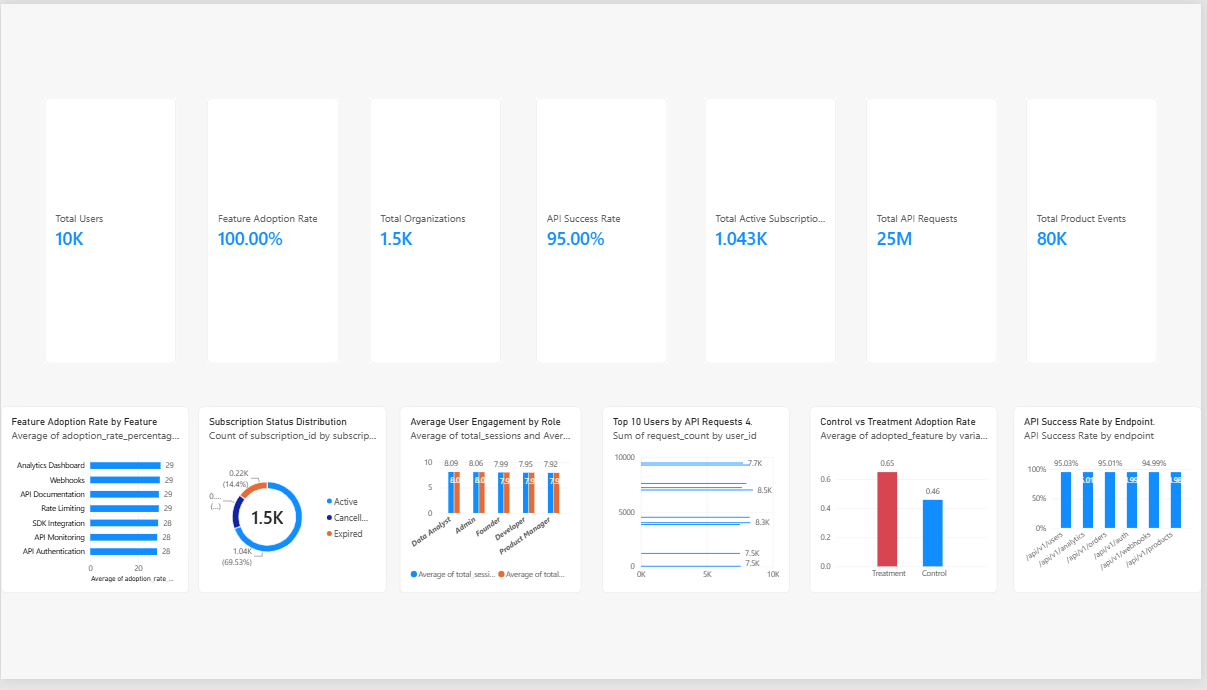

The dashboard page shown, as its layout file describes it:
{"tool":"powerbi","page":{"name":"Executive Overview","canvas":[1920,1080],"ordinal":0},"visuals":[{"type":"cardVisual","fields":{"Data":["Measures_1.Total Users"]},"box":[70.2,149.5,210.7,425.1],"z":0},{"type":"cardVisual","fields":{"Data":["Measures_1.Total Organizations"]},"box":[590.8,149.5,210,425.1],"z":1000},{"type":"cardVisual","fields":{"Data":["Measures_1.Feature Adoption Rate"]},"box":[329.6,149.5,210,425.1],"z":2000},{"type":"cardVisual","fields":{"Data":["Measures_1.Total Product Events"]},"box":[1639,149.5,210,425.1],"z":3000},{"type":"cardVisual","fields":{"Data":["Measures_1.Total API Requests"]},"box":[1383.3,149.5,210,425.1],"z":4000},{"type":"cardVisual","fields":{"Data":["Measures_1.Total Active Subscriptions"]},"box":[1125.7,149.5,210,425.1],"z":5000},{"type":"clusteredBarChart","title":"Feature Adoption Rate by Feature","fields":{"Category":["feature_adoption.feature_name"],"Y":["Avg(feature_adoption.adoption_rate_percentage)"]},"box":[0,643,300.5,298.5],"z":6000},{"type":"donutChart","title":"Subscription Status Distribution","fields":{"Category":["subscriptions.subscription_status"],"Y":["Count(subscriptions.subscription_id)"]},"box":[315.2,643,300.5,298.5],"z":7000},{"type":"clusteredColumnChart","title":"Average User Engagement by Role","fields":{"Category":["users.user_role"],"Y":["Avg(user_engagement.total_sessions)","Avg(user_engagement.total_events)"]},"box":[637.6,643,290.1,298.5],"z":8000},{"type":"clusteredBarChart","title":"Top 10 Users by API Requests 4.","fields":{"Category":["api_usage.user_id"],"Y":["Sum(api_usage.request_count)"]},"box":[961.8,643,300,298.5],"z":9000},{"type":"clusteredColumnChart","title":"Control vs Treatment Adoption Rate","fields":{"Category":["experiment_assignments.variant"],"Y":["Avg(experiment_outcomes.adopted_feature)"]},"box":[1293.2,643,300,298],"z":10000},{"type":"cardVisual","fields":{"Data":["Measures_1.API Success Rate"]},"box":[855.5,149.5,210,425.1],"z":11000},{"type":"clusteredColumnChart","title":"API Success Rate by Endpoint.","fields":{"Category":["api_usage.endpoint"],"Y":["Measures_1.API Success Rate"]},"box":[1619.2,643,300.5,298.5],"z":12000}]}

Visuals, with their boxes in screenshot pixels (x1, y1, x2, y2), scaled from the page's 1920x1080 canvas onto the 1207x690 screenshot:
cardVisual - Measures_1.Total Users: x1=44, y1=96, x2=177, y2=367
cardVisual - Measures_1.Total Organizations: x1=371, y1=96, x2=503, y2=367
cardVisual - Measures_1.Feature Adoption Rate: x1=207, y1=96, x2=339, y2=367
cardVisual - Measures_1.Total Product Events: x1=1030, y1=96, x2=1162, y2=367
cardVisual - Measures_1.Total API Requests: x1=870, y1=96, x2=1002, y2=367
cardVisual - Measures_1.Total Active Subscriptions: x1=708, y1=96, x2=840, y2=367
"Feature Adoption Rate by Feature" clusteredBarChart: x1=0, y1=411, x2=189, y2=602
"Subscription Status Distribution" donutChart: x1=198, y1=411, x2=387, y2=602
"Average User Engagement by Role" clusteredColumnChart: x1=401, y1=411, x2=583, y2=602
"Top 10 Users by API Requests 4." clusteredBarChart: x1=605, y1=411, x2=793, y2=602
"Control vs Treatment Adoption Rate" clusteredColumnChart: x1=813, y1=411, x2=1002, y2=601
cardVisual - Measures_1.API Success Rate: x1=538, y1=96, x2=670, y2=367
"API Success Rate by Endpoint." clusteredColumnChart: x1=1018, y1=411, x2=1206, y2=602
